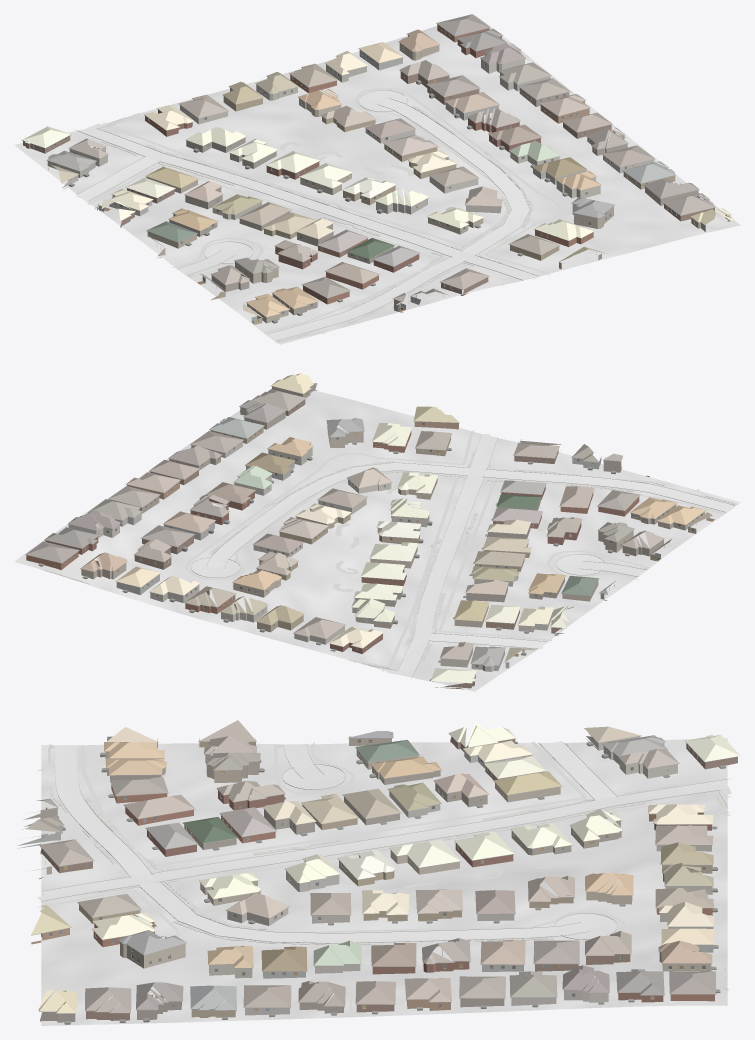
The picture shows the model from 3 angles, top to bottom: view 1: azimuth 30°, elevation 25°; view 2: azimuth 150°, elevation 25°; view 3: azimuth 270°, elevation 25°; orthographic projection. The views are drawn at different scales.
Parts seen in each view (by area): view 1: ground, roof, wall, concrete, walk, wall_stucco, detail, asphalt, curb, wall_stone, glass; view 2: ground, roof, wall, concrete, walk, wall_stucco, detail, asphalt, curb, wall_stone, glass; view 3: ground, roof, wall, concrete, walk, asphalt, wall_stucco, detail, curb, wall_stone, glass, mark_w.
Part boxes in pixels (x1,y1,x2,y2): ground: [14, 15, 740, 344]; roof: [22, 14, 734, 317]; wall: [23, 24, 730, 324]; concrete: [75, 90, 529, 340]; walk: [76, 26, 610, 342]; wall_stucco: [47, 50, 613, 304]; detail: [21, 23, 731, 323]; asphalt: [80, 126, 538, 279]; curb: [74, 37, 539, 342]; wall_stone: [62, 72, 654, 216]; glass: [33, 27, 677, 317]; ground: [14, 388, 740, 691]; roof: [25, 373, 712, 683]; wall: [26, 383, 704, 689]; concrete: [191, 462, 734, 674]; walk: [42, 430, 738, 668]; wall_stucco: [68, 426, 601, 671]; detail: [25, 384, 712, 681]; asphalt: [396, 434, 496, 676]; curb: [45, 434, 734, 678]; wall_stone: [115, 441, 553, 668]; glass: [65, 402, 702, 667]; ground: [41, 738, 727, 1025]; roof: [26, 720, 740, 1013]; wall: [23, 736, 737, 1022]; concrete: [54, 741, 731, 942]; walk: [37, 742, 730, 1013]; asphalt: [37, 780, 729, 900]; wall_stucco: [17, 743, 713, 1002]; detail: [21, 733, 734, 1024]; curb: [41, 742, 731, 989]; wall_stone: [245, 736, 640, 1015]; glass: [41, 739, 705, 1007]; mark_w: [42, 782, 713, 900].
Bounding box in the file's own units: 255 × 20.16 × 265.
